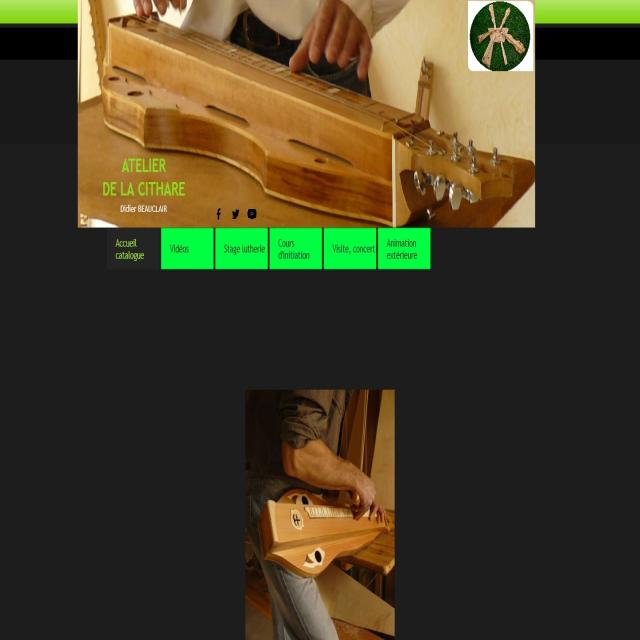button: (215, 228, 269, 268), (161, 230, 214, 269), (106, 230, 160, 268), (270, 230, 322, 268), (324, 230, 376, 268), (378, 230, 430, 268), (246, 200, 259, 227), (230, 201, 240, 226), (213, 202, 223, 223)
heading: (97, 152, 189, 200)
image: (79, 0, 534, 229), (246, 387, 395, 640)
text: (116, 201, 170, 218)
